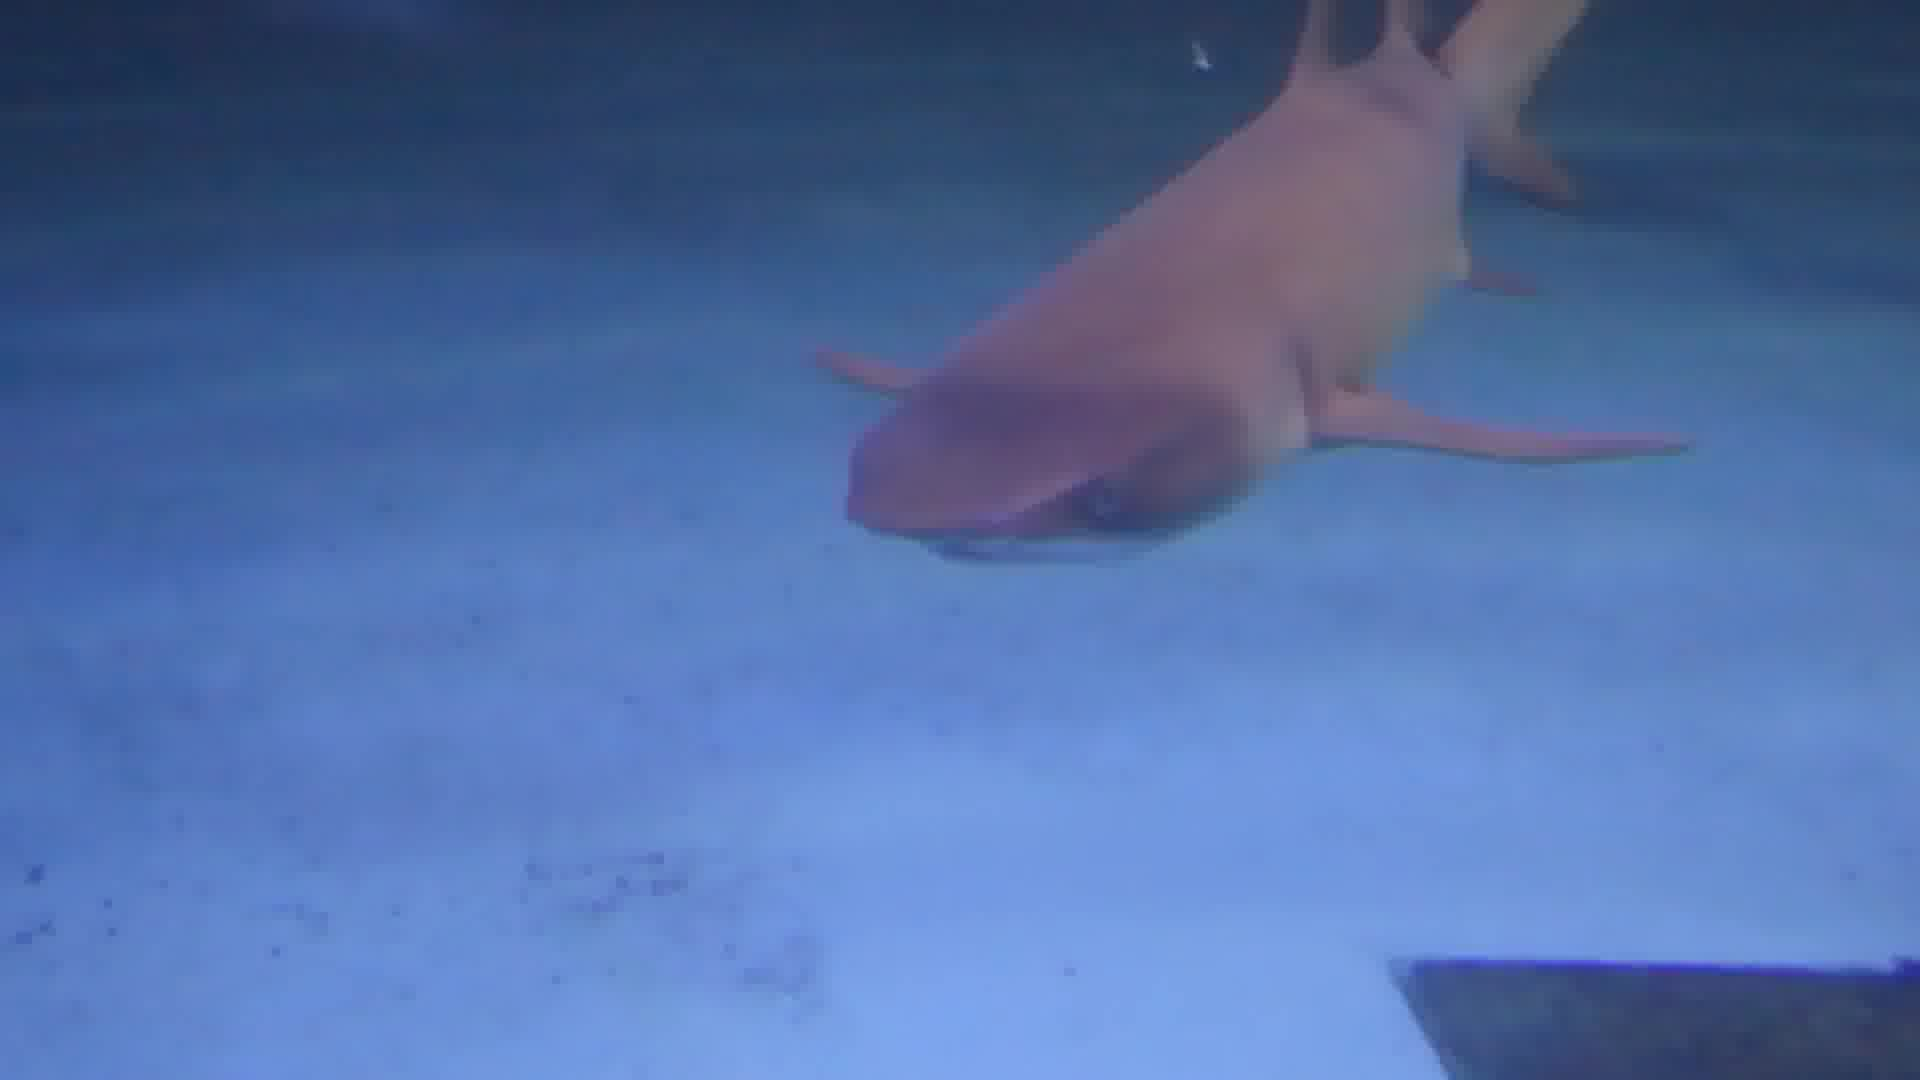Triaenodon obesus: (741, 1, 1758, 549)
